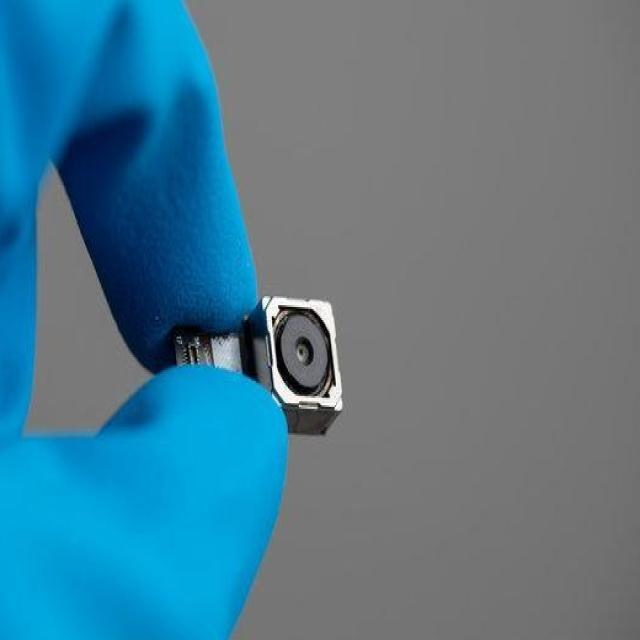hidden camera: (277, 305, 332, 394)
